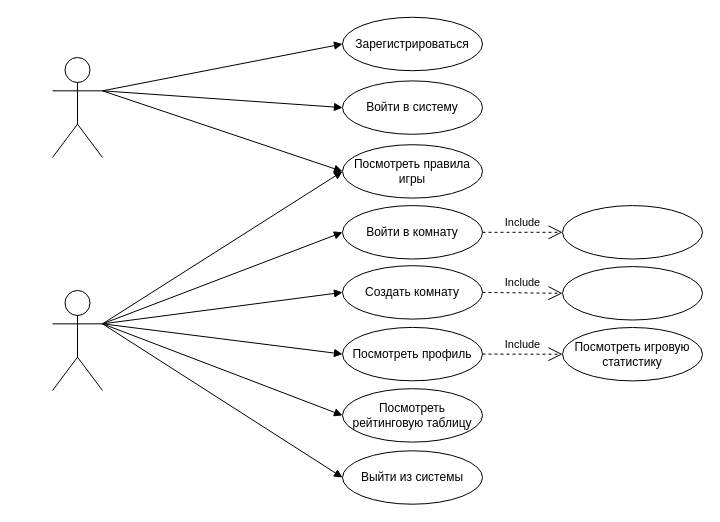
This 720x522 diagram has some shape labels left out. Here are the shapes that lost their labels. From the top down, the centre of each, then its label:
pixel 77 107: Неавторизированный пользователь
pixel 632 232: Просмотр всех комнат
pixel 632 293: Настройка параметров
pixel 77 340: Авторизированный пользователь
